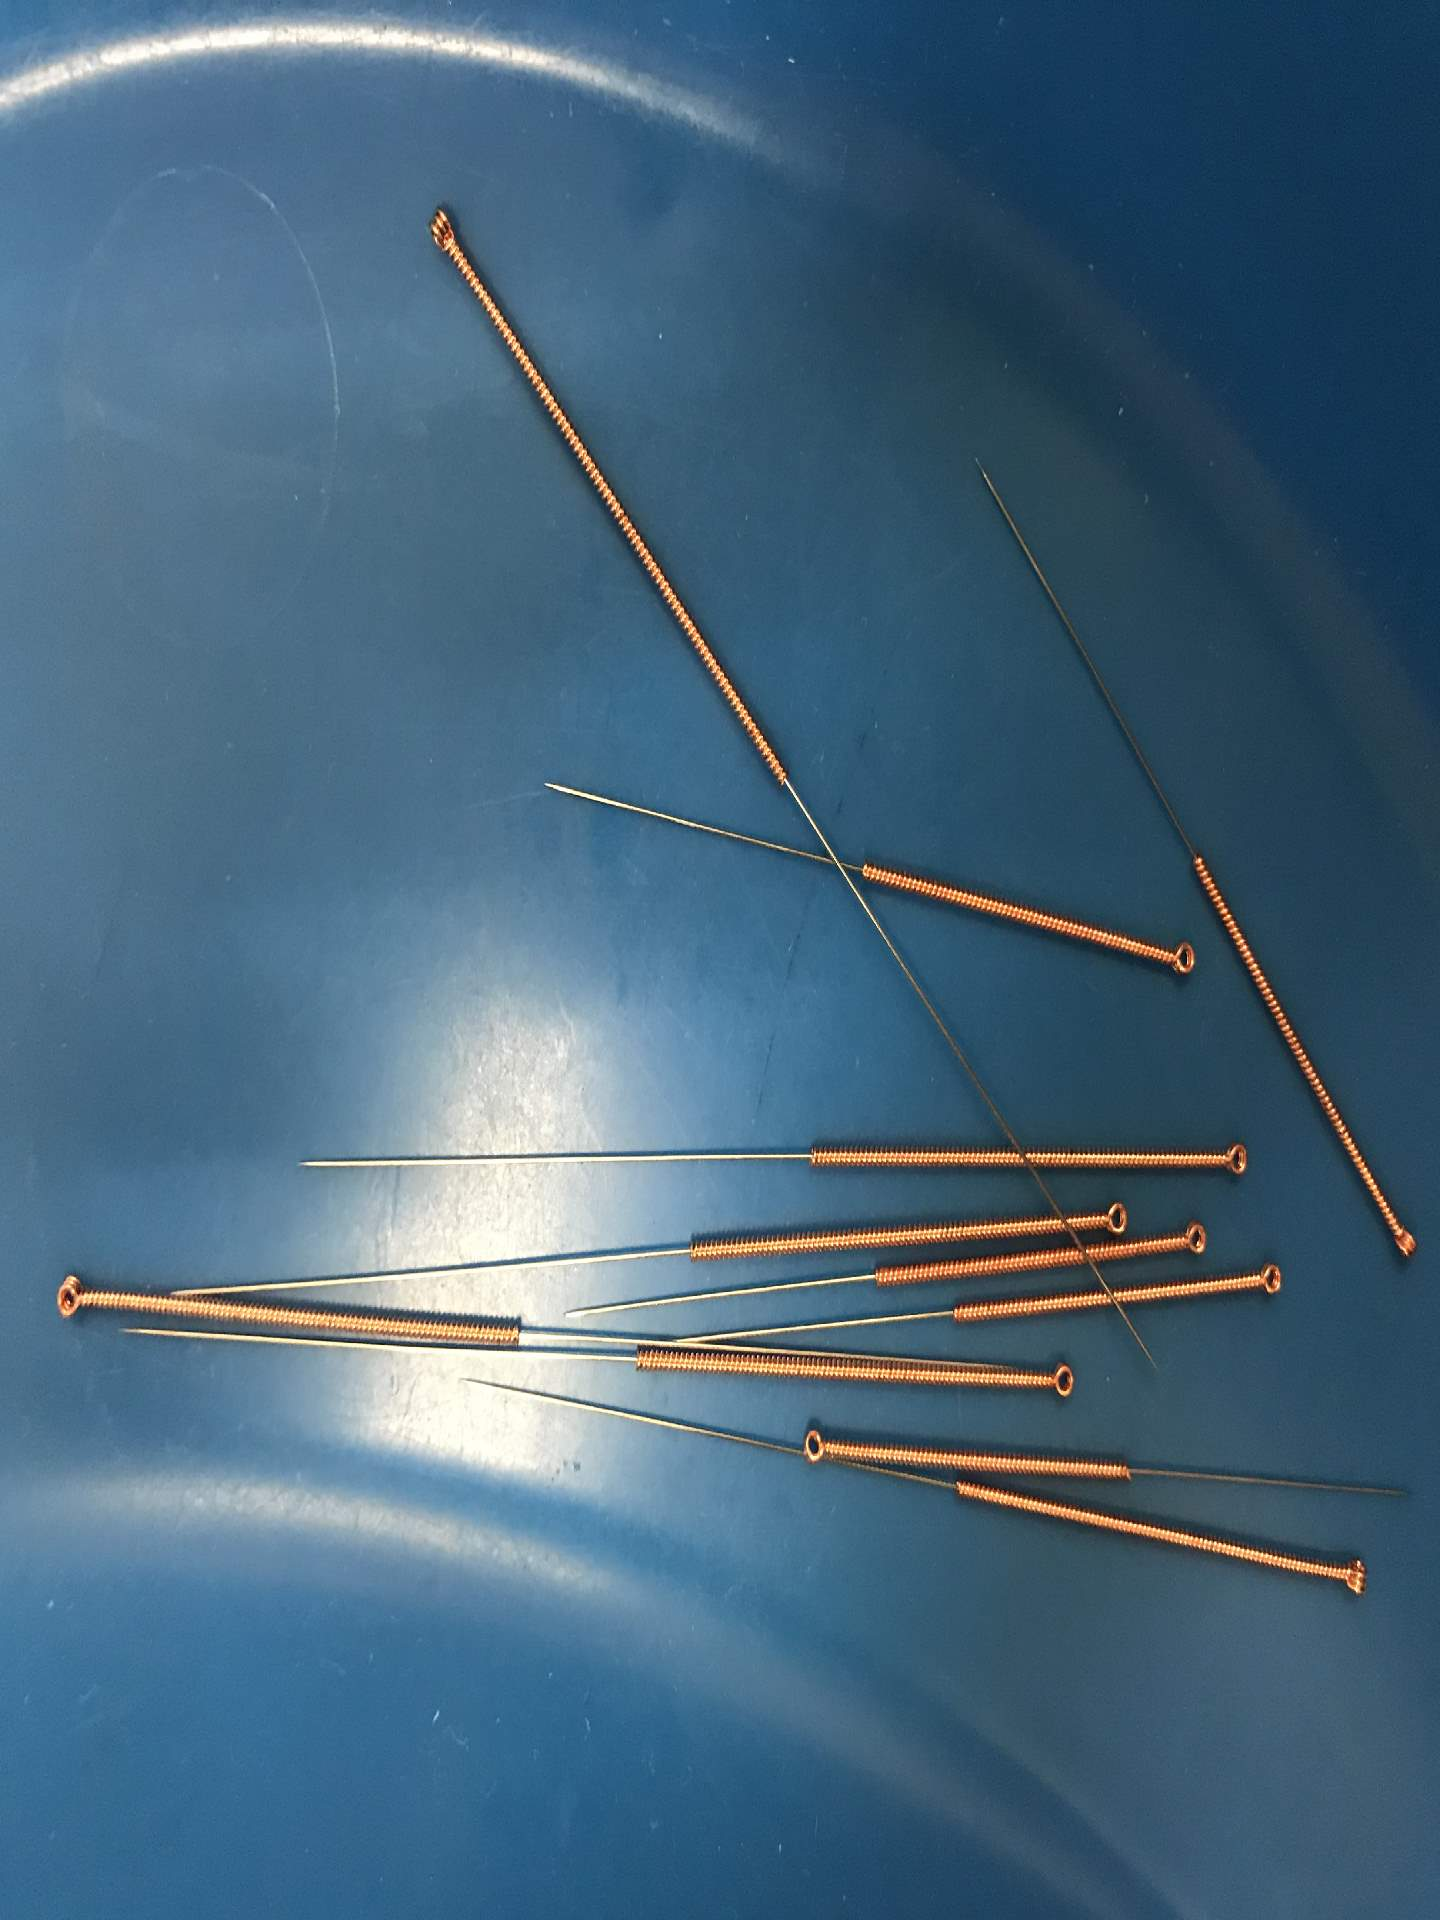needle: (36, 1259, 98, 1333), (414, 194, 467, 268), (1322, 1551, 1384, 1609), (1203, 1132, 1265, 1187), (790, 1414, 841, 1476), (1032, 1353, 1086, 1409), (1151, 928, 1204, 986), (1376, 1212, 1426, 1273), (1165, 1214, 1219, 1265), (1243, 1250, 1293, 1306), (1086, 1191, 1136, 1240)
